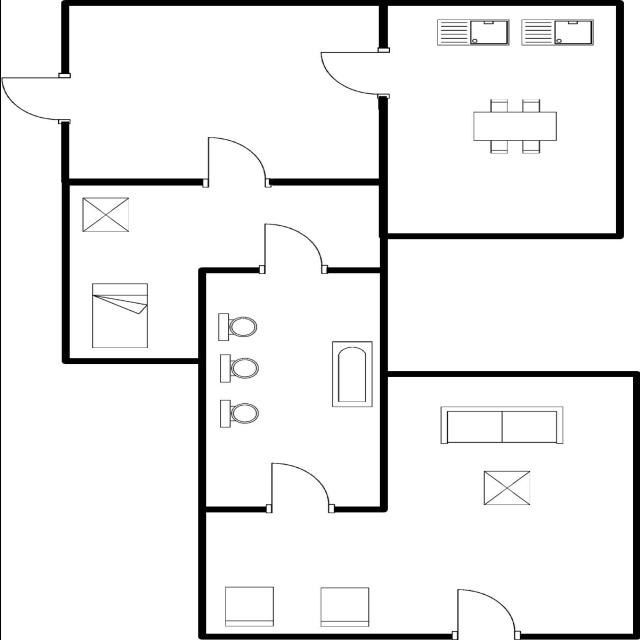bed: (86, 279, 152, 351)
coffee_table: (77, 194, 133, 234), (478, 468, 534, 508)
dining_table: (468, 96, 562, 158)
large_sink: (213, 396, 260, 432), (213, 309, 261, 344), (215, 352, 261, 388)
large_sofa: (435, 404, 567, 447)
sink: (517, 15, 597, 48), (432, 16, 511, 49)
small_sofa: (220, 582, 279, 628), (316, 582, 374, 628)
tub: (326, 338, 376, 411)
